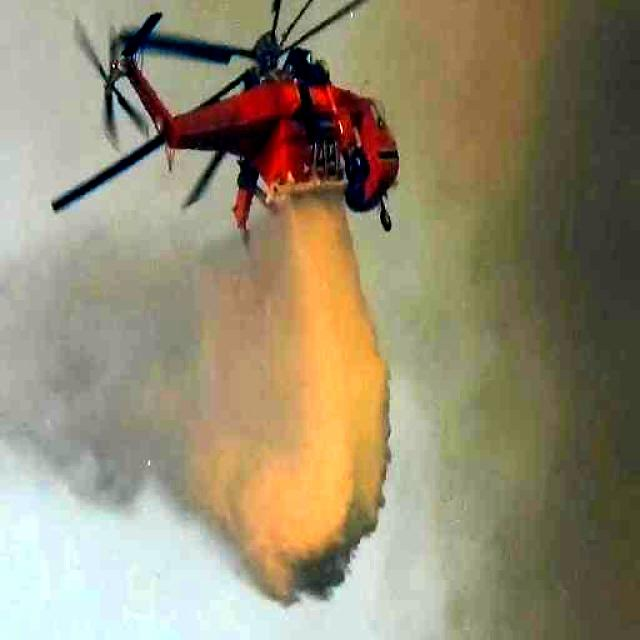drone: (46, 0, 455, 230)
